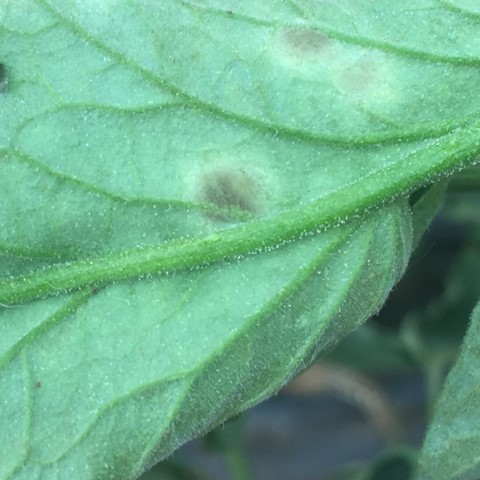negra: (193, 159, 268, 227), (276, 20, 337, 59), (338, 52, 386, 100)
